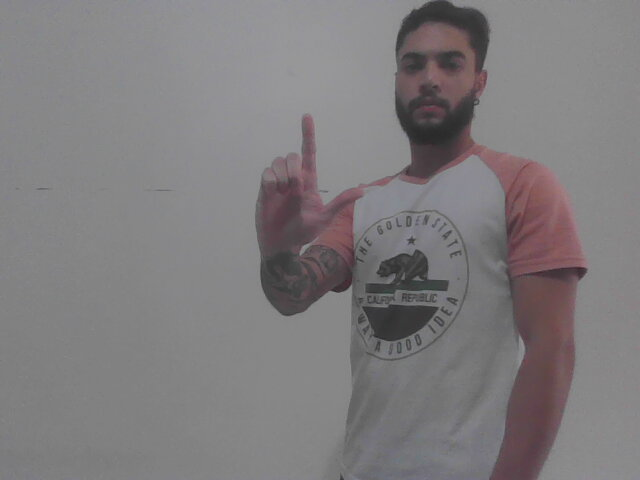l: (248, 110, 367, 260)
